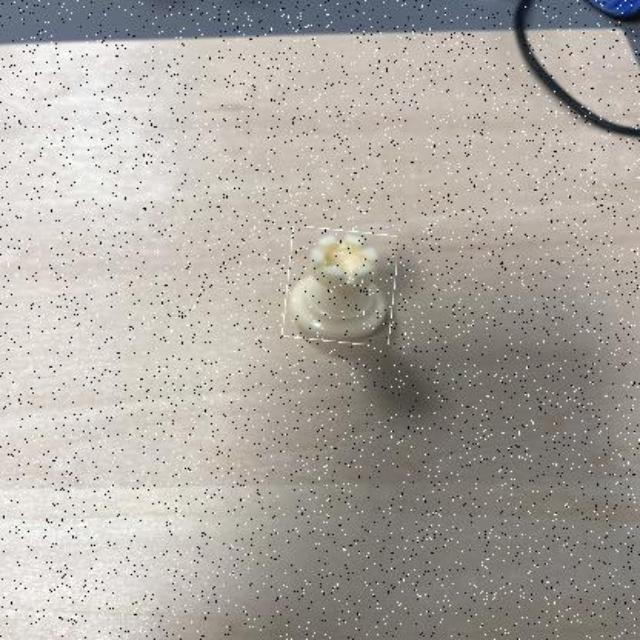white-rook: (286, 229, 396, 343)
